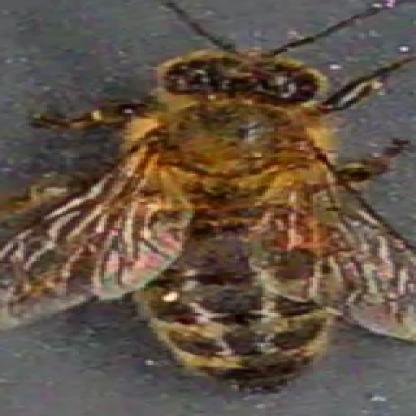bee: (117, 42, 362, 388)
